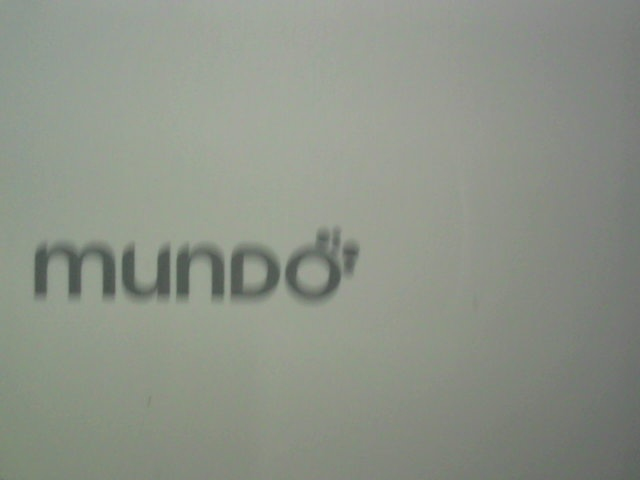BI_MUNDO: (19, 222, 366, 310)
